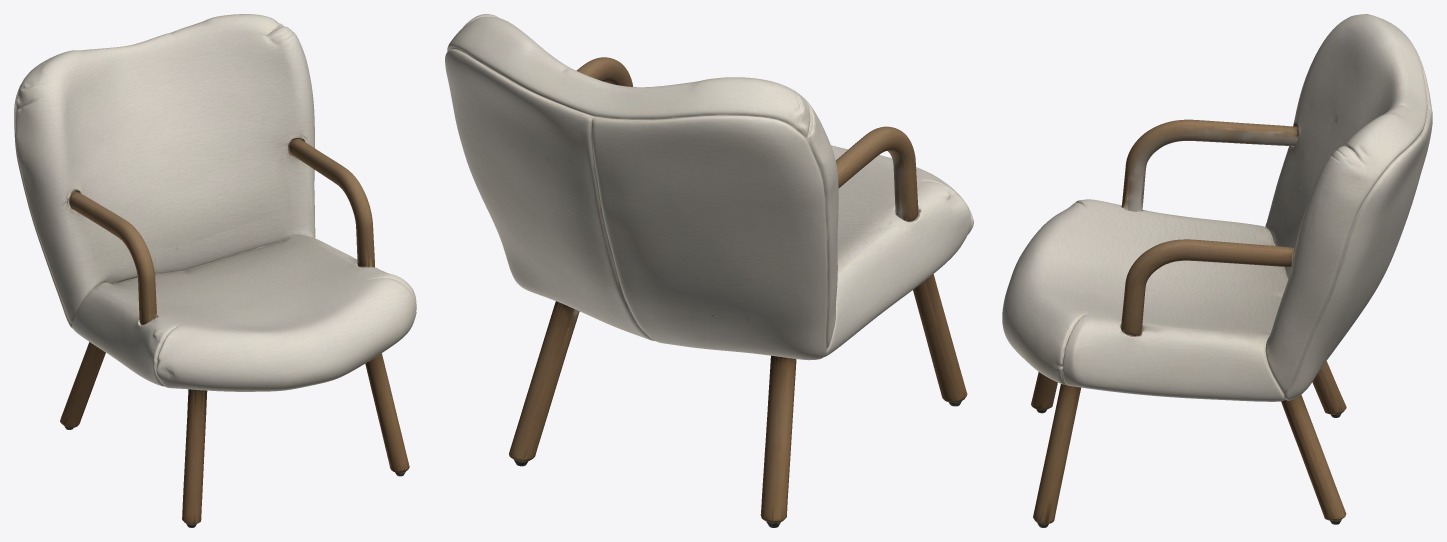
File: armchair-real-castlery-winora-armchair.glb
3 renders of one model, left to right at view 1: azimuth 30°, elevation 25°; view 2: azimuth 150°, elevation 25°; view 3: azimuth 270°, elevation 25°, orthographic. The views are drawn at different scales.
Visible parts, largest first — view 1: node_0; view 2: node_0; view 3: node_0.
Boxes of the visible parts, box(x1,y1,x2,y2) form: node_0: box(14, 14, 416, 527); node_0: box(445, 14, 973, 527); node_0: box(1002, 14, 1432, 527).
Bounding box in the file's own units: 0.7082 × 0.8355 × 0.8163.
1 material, 1 textured.
